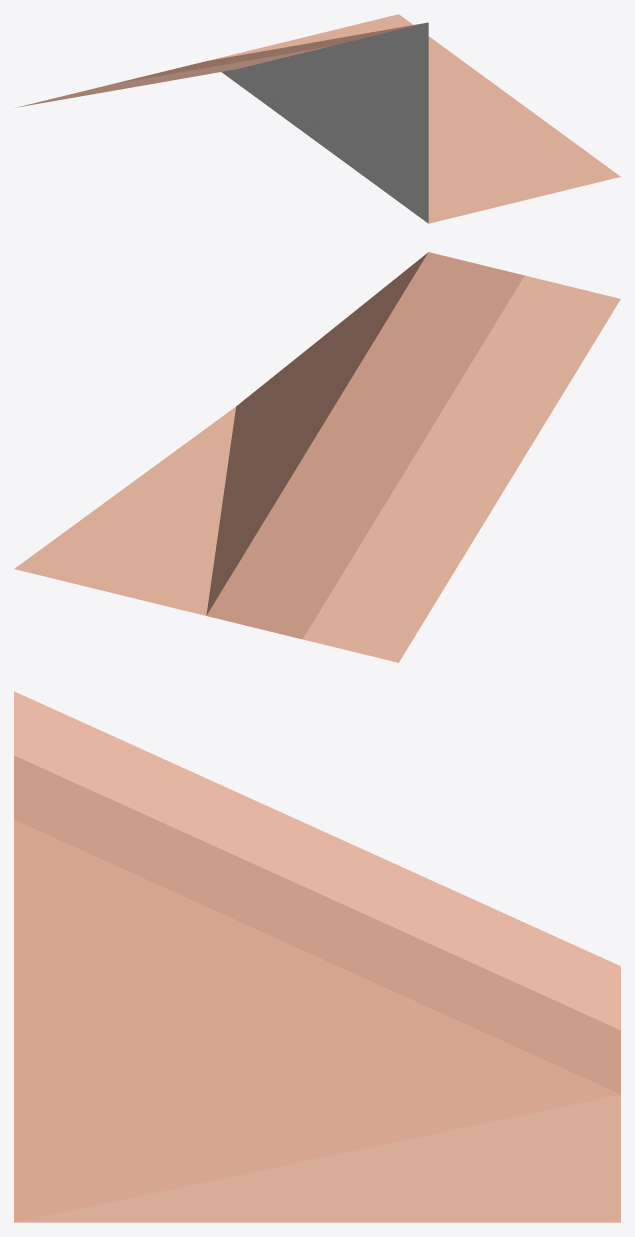
Rendered from terrain_sideend.glb.
3 renders of one model, top to bottom at view 1: azimuth 30°, elevation 25°; view 2: azimuth 150°, elevation 25°; view 3: azimuth 270°, elevation 25°, orthographic. The views are drawn at different scales.
Parts seen in each view (by area): view 1: terrain_sideEnd; view 2: terrain_sideEnd; view 3: terrain_sideEnd.
Part boxes in pixels (x1,y1,x2,y2): terrain_sideEnd: (15, 14, 620, 223); terrain_sideEnd: (14, 252, 620, 662); terrain_sideEnd: (14, 691, 620, 1222).
Bounding box in the file's own units: 1 × 0.5 × 1.
